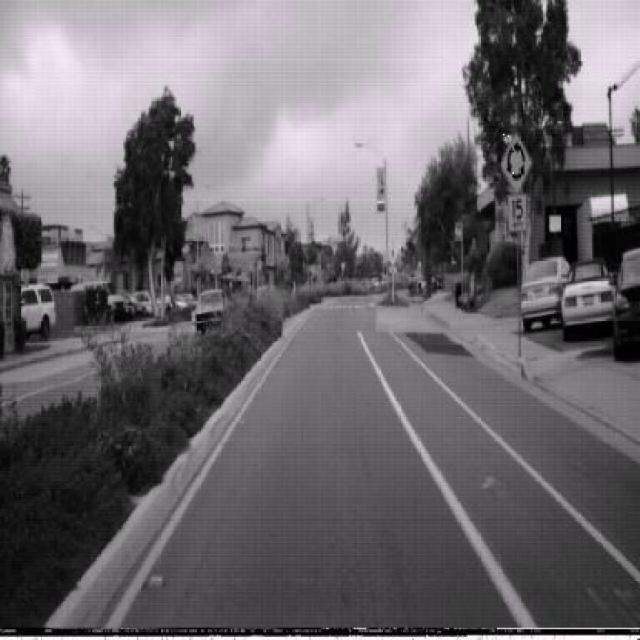roundabout: (498, 129, 534, 195)
